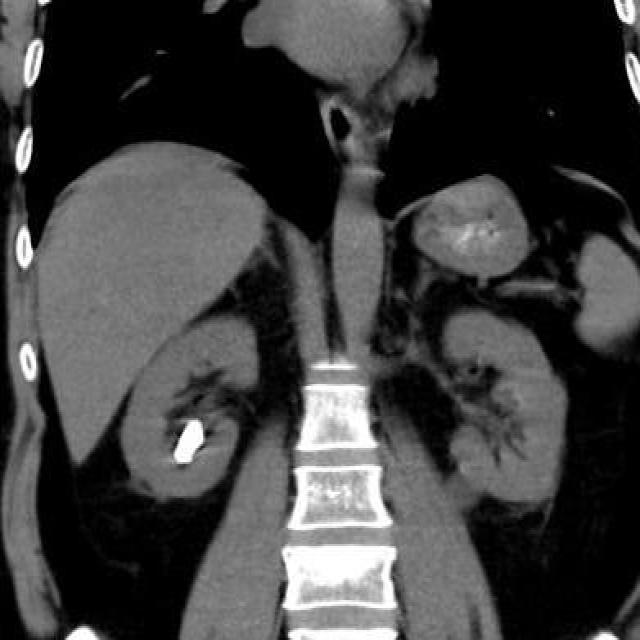Tas_Var: (166, 416, 217, 468)
